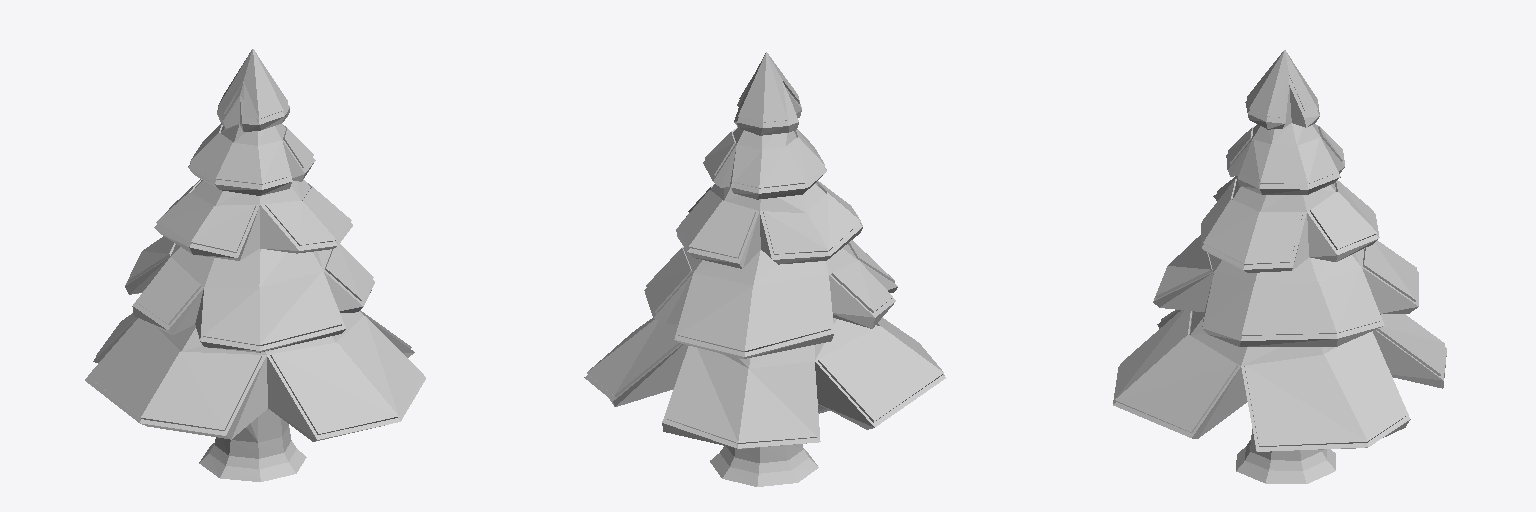
The model's file is winter-tree.obj.
3 views of the same model, side by side, from view 1: azimuth 30°, elevation 25°; view 2: azimuth 150°, elevation 25°; view 3: azimuth 270°, elevation 25° (orthographic).
Visible parts, largest first — view 1: Cylinder; view 2: Cylinder; view 3: Cylinder.
Part boxes in pixels (x1,y1,x2,y2): Cylinder: (85, 49, 425, 481); Cylinder: (584, 52, 945, 486); Cylinder: (1113, 50, 1446, 483).
Bounding box in the file's own units: 4.25 × 5.68 × 4.18.